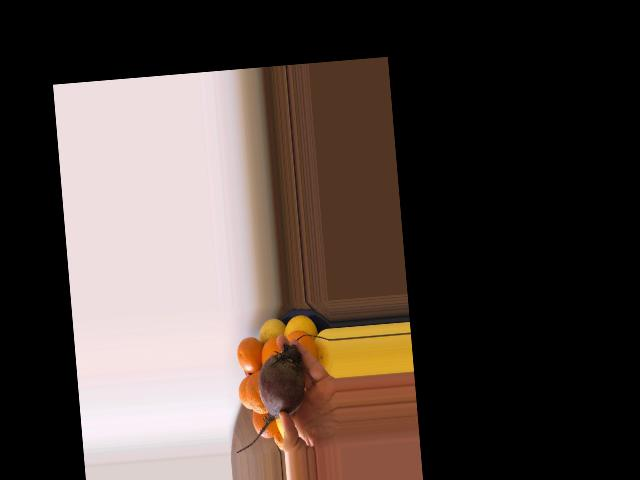beet: (228, 343, 310, 452)
